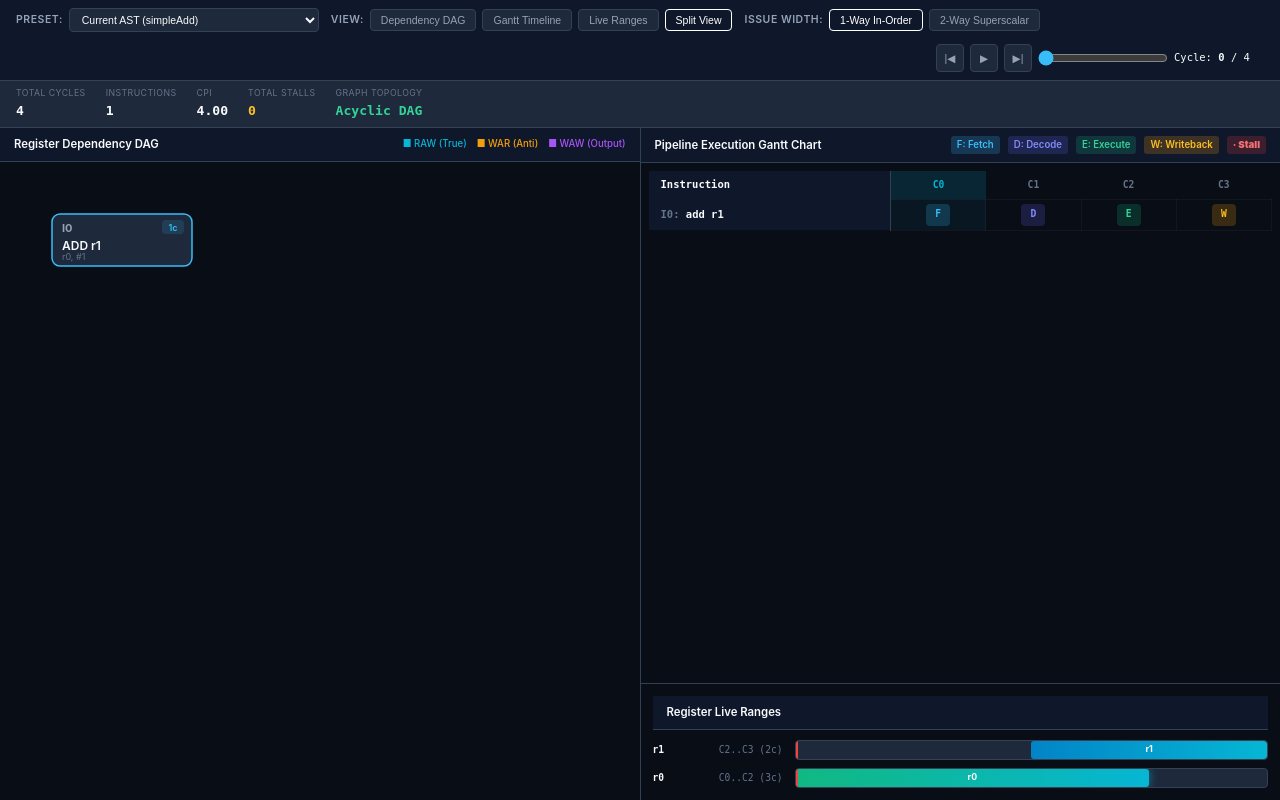
Test: HardwarePipelineWidget Component › switches benchmark presets from dropdown
# Select Benchmark 3 (MAC with 2 stalls)
Select "3. Multiplier-Accumulator (MAC Stall)" in the dropdown with test id "hardware-preset-select" at (194, 20), box [69,8,319,32]
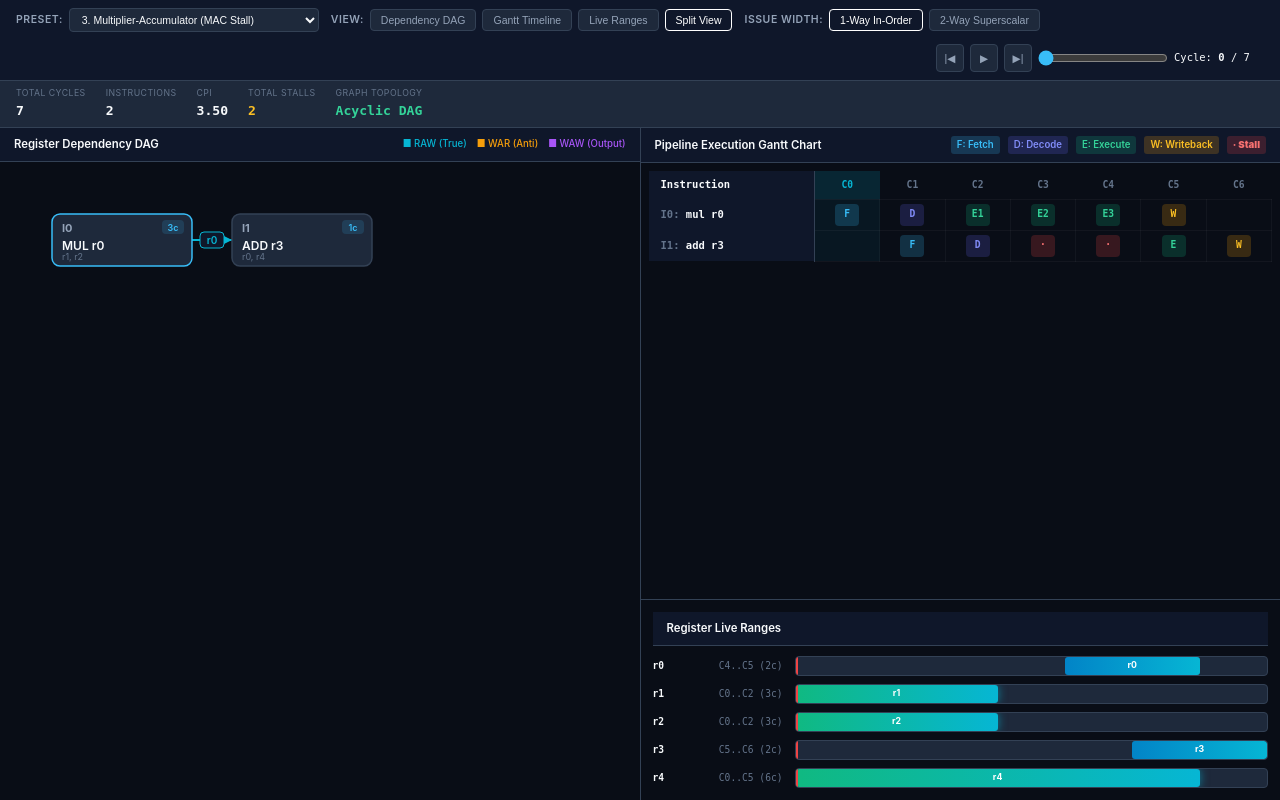
expect the element with test id "hardware-kpi-stalls" shows "2": met, box [248,103,256,118]
expect the element with test id "hardware-kpi-cycles" shows "7": met, box [16,103,24,118]
